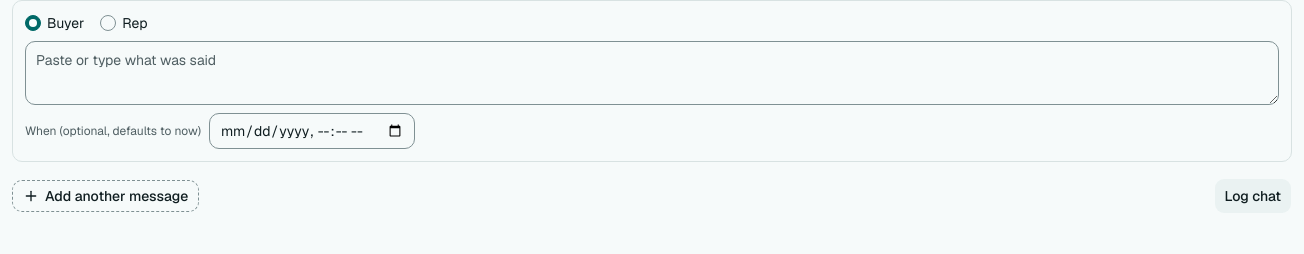
Test: LogChatForm › requires text before submitting
Click the button "Log chat": (1253, 196) [1214, 178, 1292, 214]
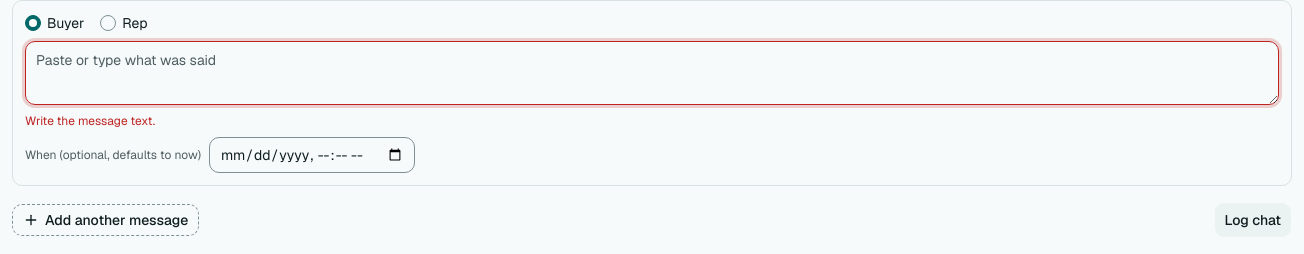
Expected: the text "Write the message text." is shown, [25, 113, 155, 129]
